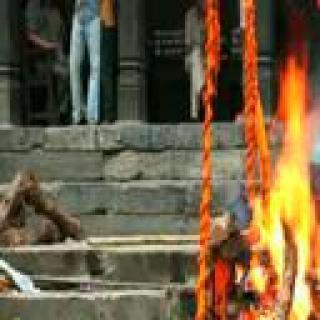fire: (245, 60, 320, 320)
